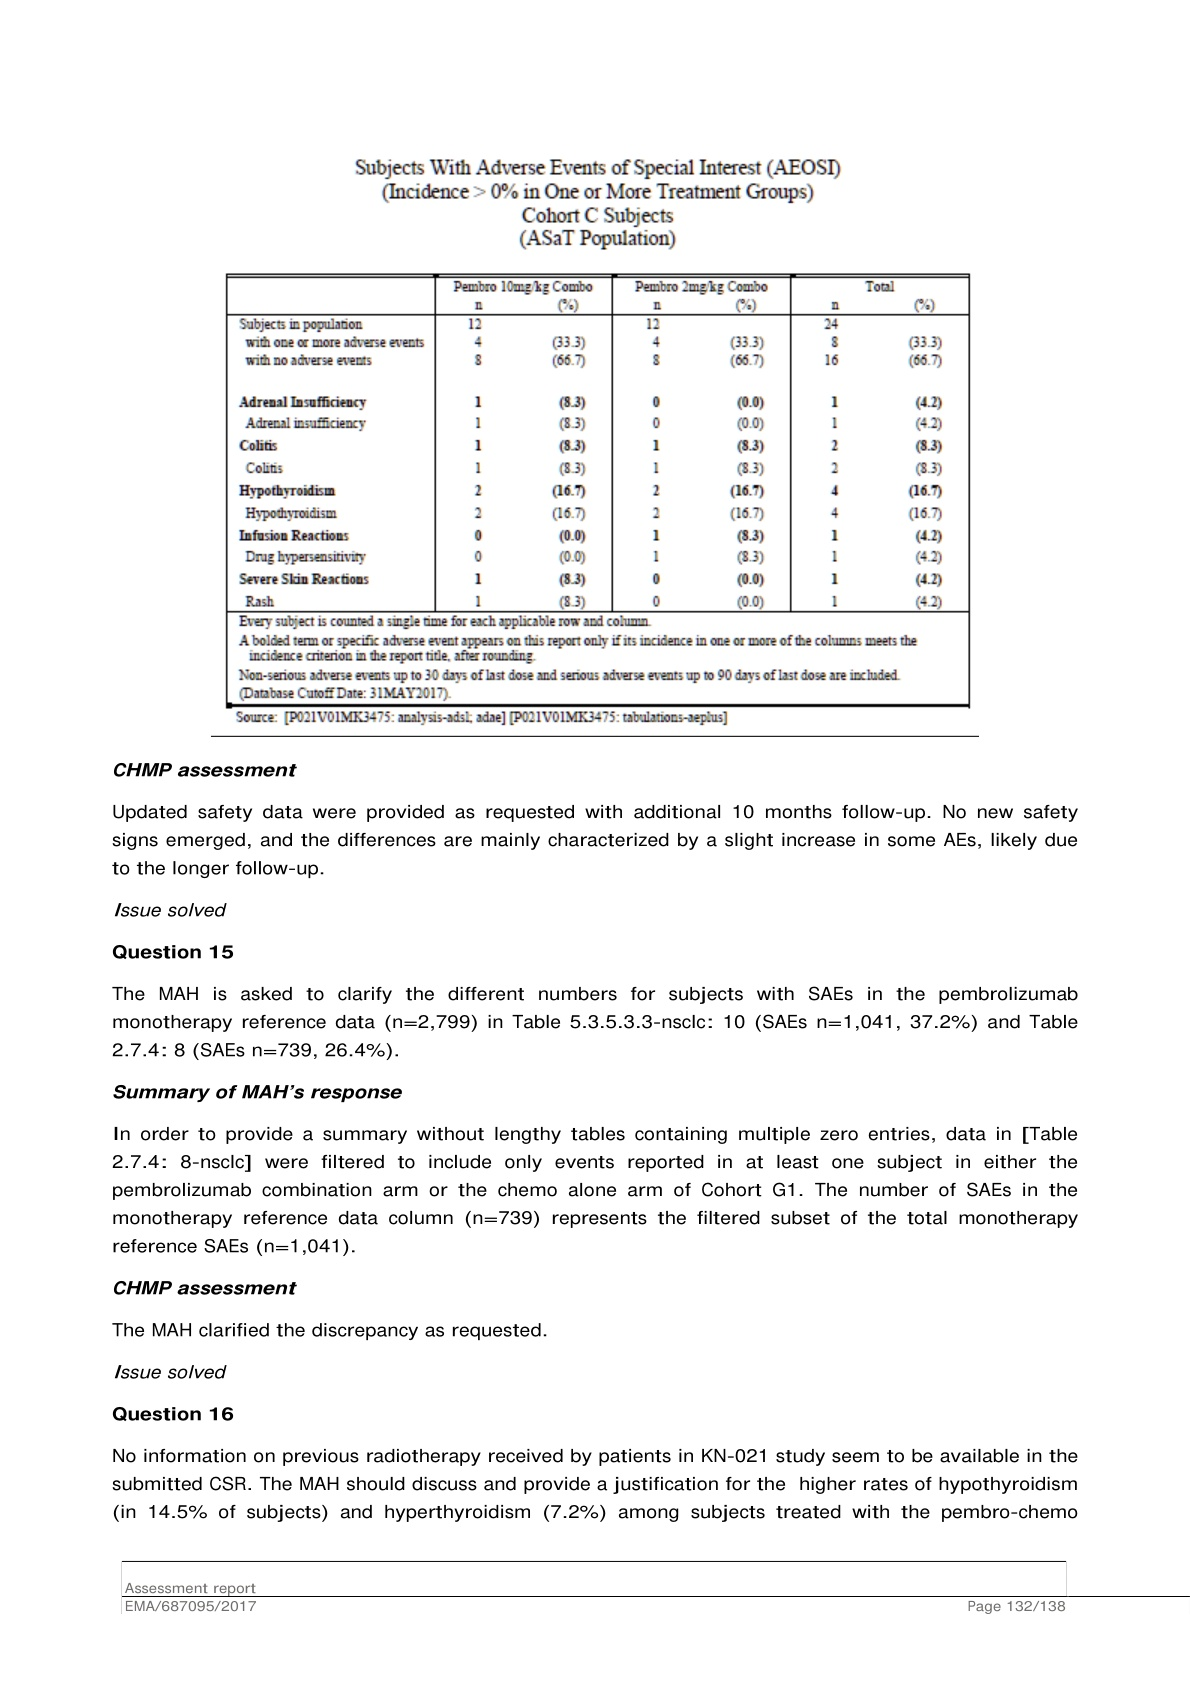partial_lined_merged_cells: (224, 273, 971, 708)
